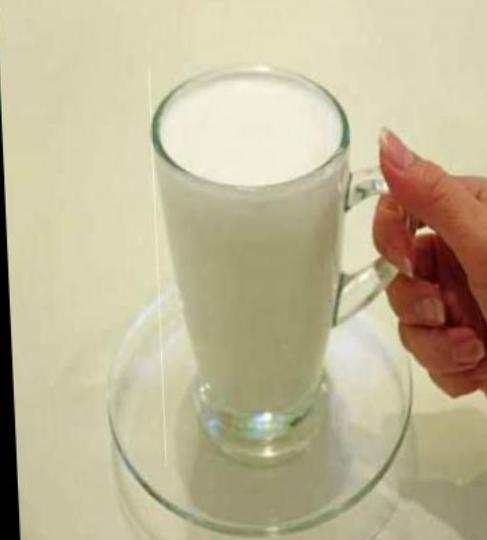produk_susu: (169, 85, 326, 414)
